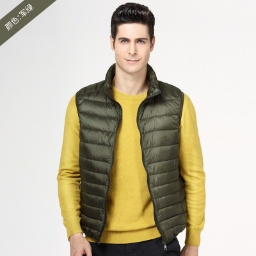face: (108, 2, 159, 73)
